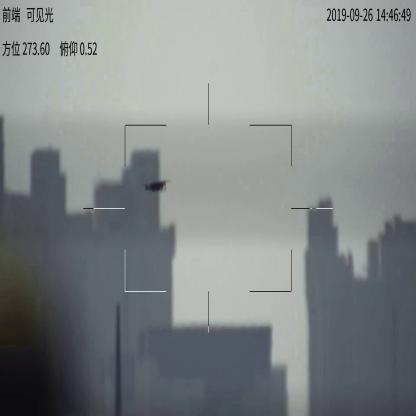uav: (139, 179, 168, 194)
